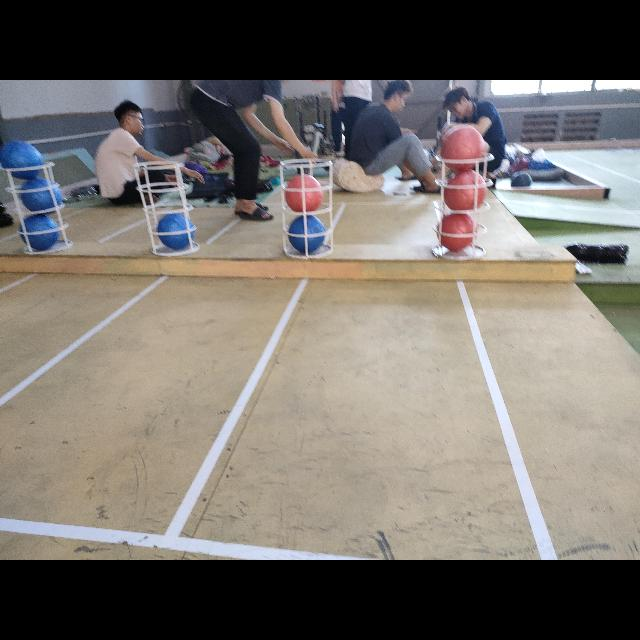B: (1, 138, 44, 178), (17, 178, 63, 212), (156, 213, 196, 249), (289, 216, 325, 254), (18, 214, 58, 248)
R: (440, 126, 488, 172), (441, 171, 487, 213), (436, 214, 476, 252), (284, 174, 322, 213)
